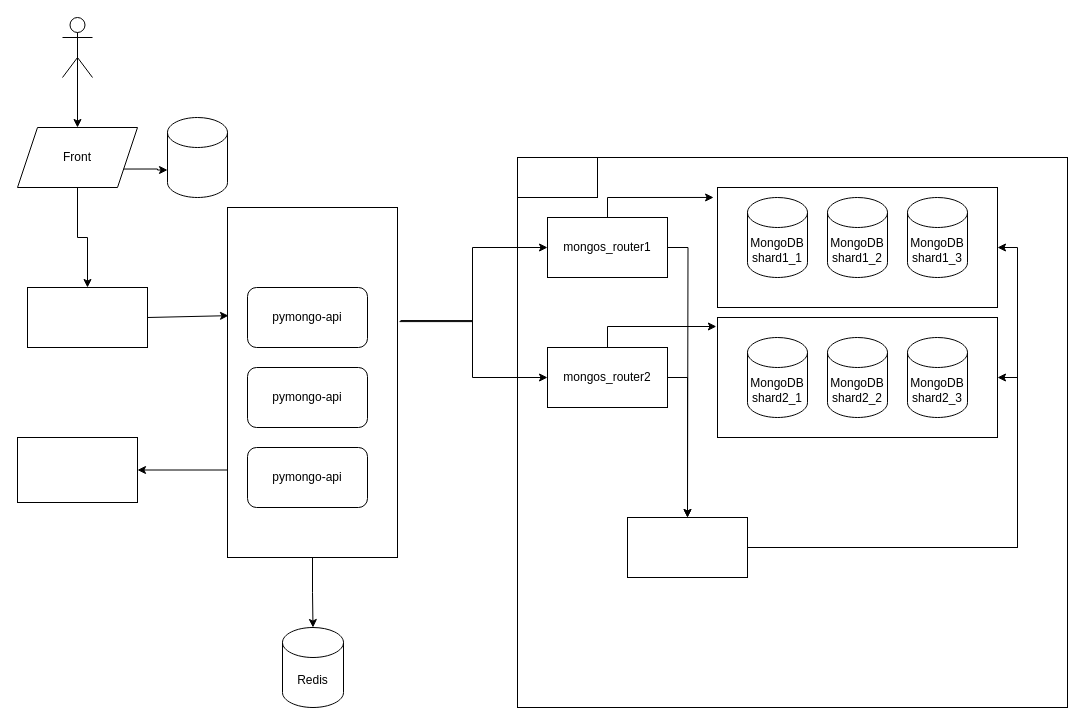
The diagram is 1085 pixels wide and 725 high, and some of its shapes have lost their labels. Here are the shapes that lost their labels. From the top down, the centre of each, then its label:
At point (77, 47): "Actor".
At point (197, 157): "CDN".
At point (557, 177): "MongoDB".
At point (87, 317): "API Gateway + consul_kv".
At point (77, 469): "Consul".
At point (687, 547): "configSrv".
